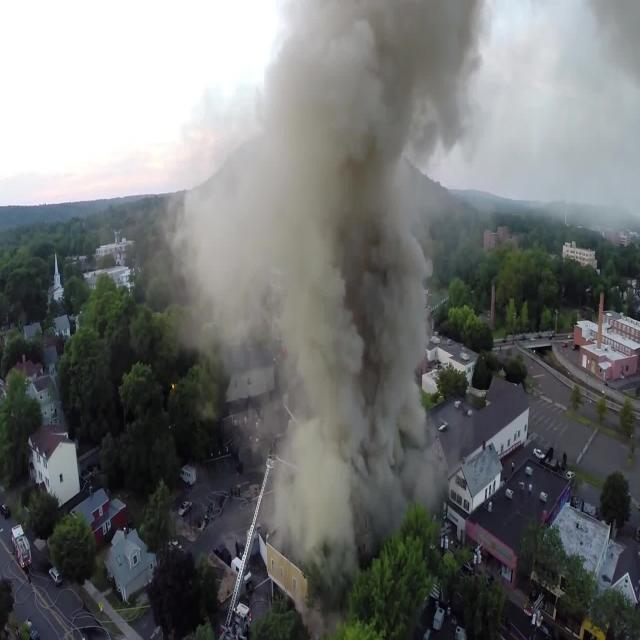smoke: (264, 13, 417, 550)
